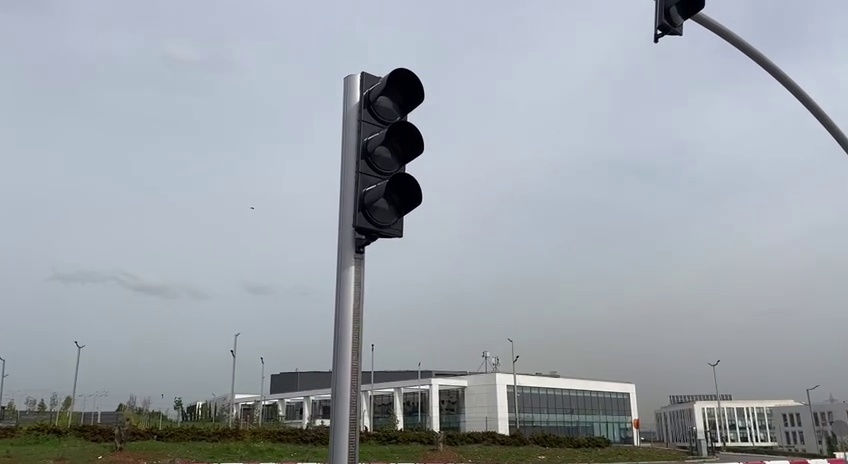trafficLight: (337, 63, 428, 251), (648, 1, 709, 46)
